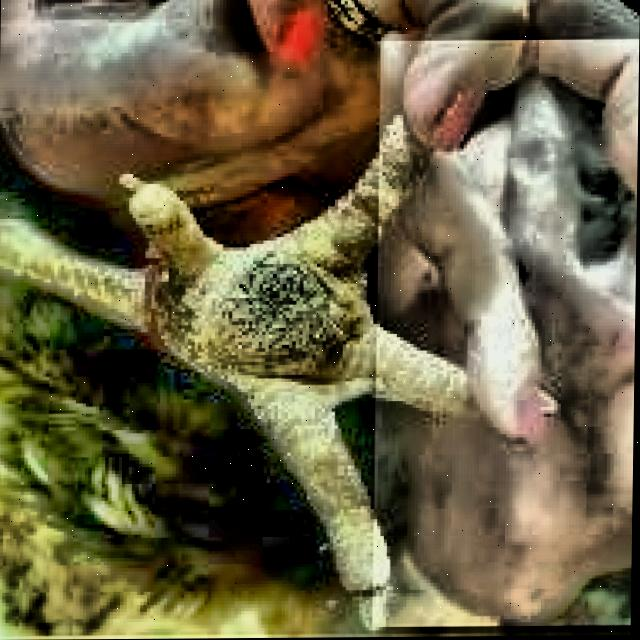Bumble foot: (171, 196, 389, 389)
